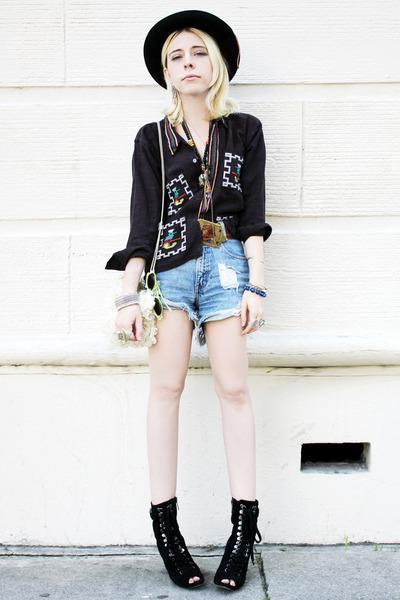bag: (135, 301, 168, 350)
hat: (144, 10, 239, 83)
jacket: (108, 113, 271, 315)
shoe: (150, 496, 261, 587)
shorts: (156, 228, 252, 344)
